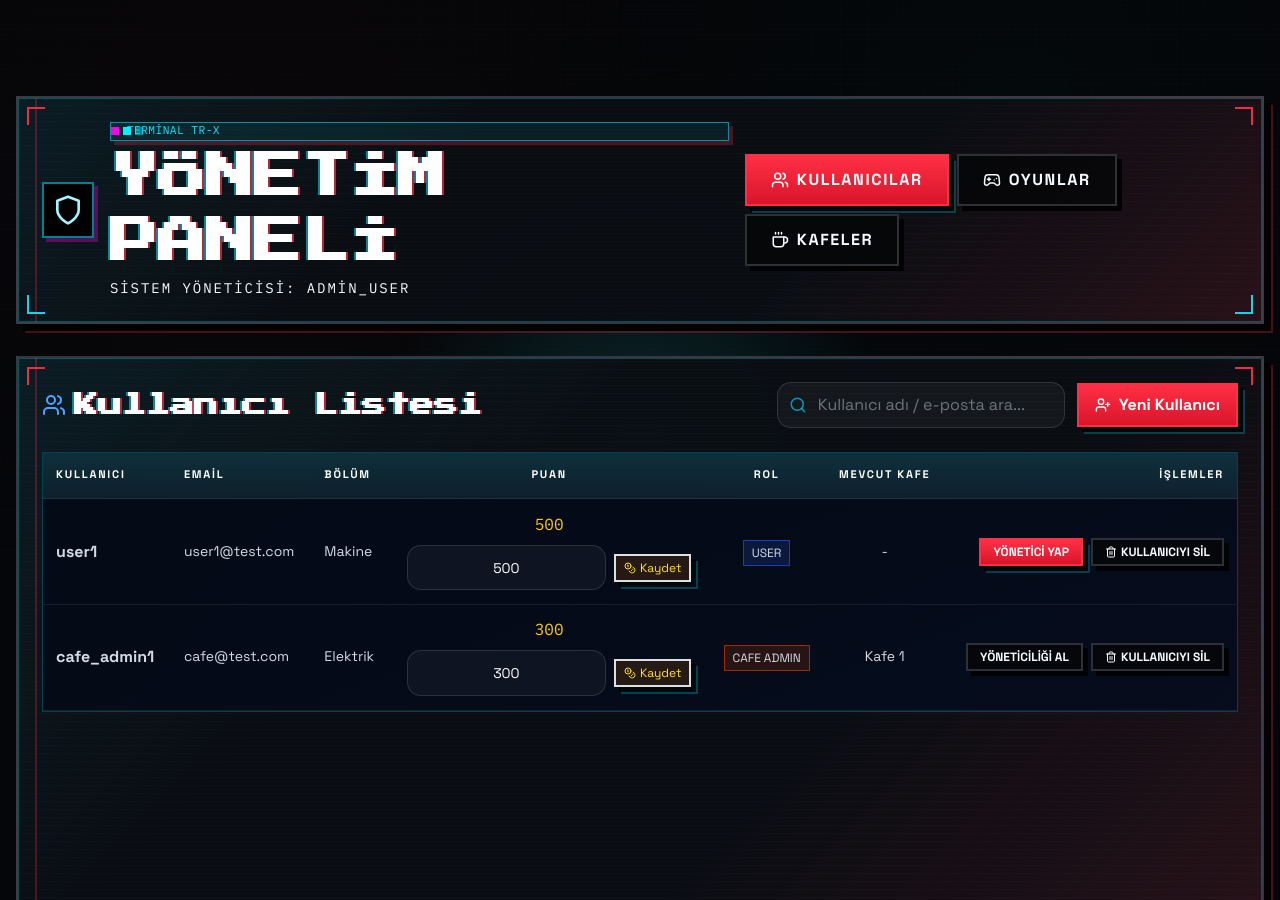
AdminDashboard › opens cafe admin modal when promoting user
The width and height of the screenshot is (1280, 900).
Expected: the heading "Kullanıcı Listesi" is shown, [42,389,482,422]
Expected: the text "user1" is shown, [43,499,171,605]
Click the first promote button
Click the button "YÖNETİCİ YAP": (1031, 552) [980,538,1083,566]
(page scrolled)
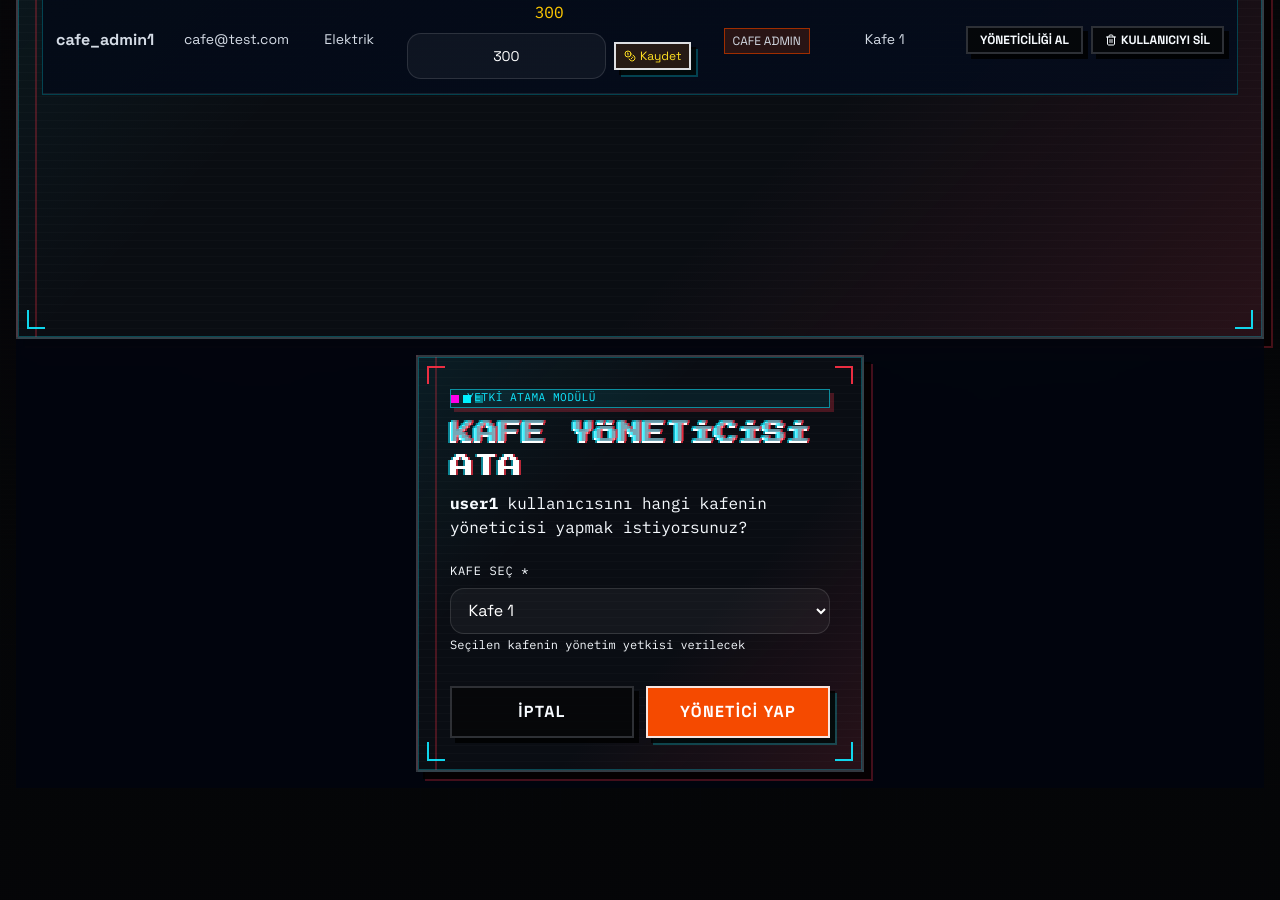
Expected: the heading "Kafe Yöneticisi Ata" is shown, [450,416,830,484]
